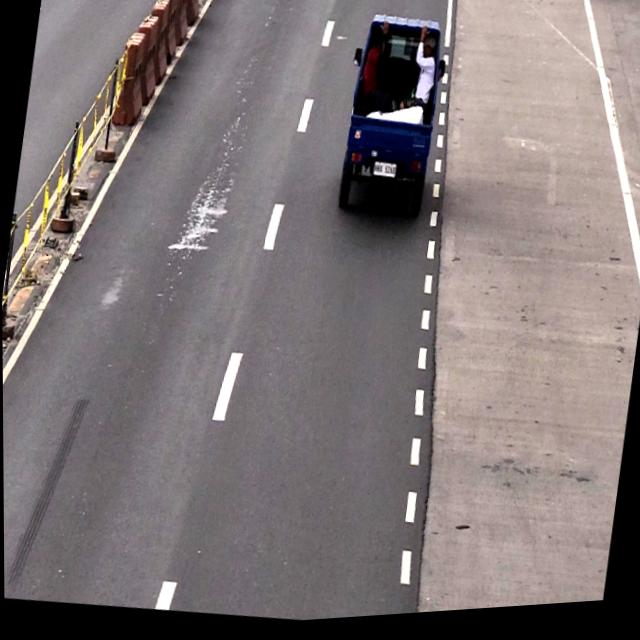Car: (334, 11, 450, 225)
License-Plate: (372, 166, 399, 187)
